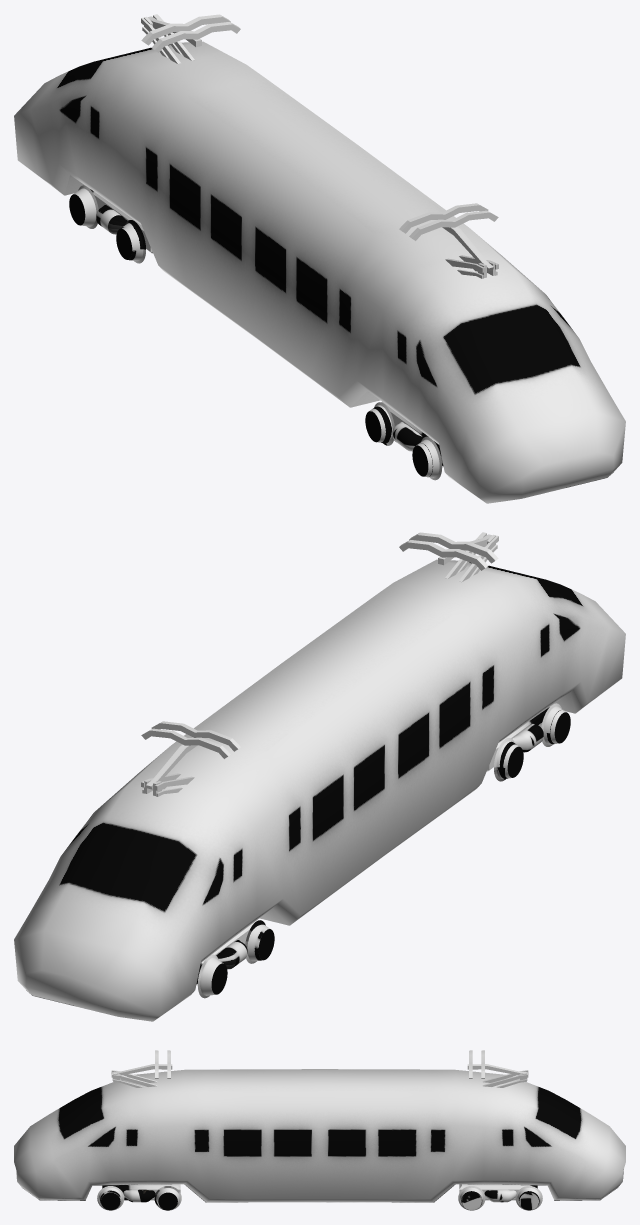
The model's file is trainModel.fbx.
3 renders of one model, top to bottom at view 1: azimuth 30°, elevation 25°; view 2: azimuth 150°, elevation 25°; view 3: azimuth 270°, elevation 25°, orthographic. The views are drawn at different scales.
Visible parts, largest first — view 1: model; view 2: model; view 3: model.
Part boxes in pixels (left/top/right/bottom): model: left=14, top=14, right=625, bottom=503; model: left=14, top=532, right=625, bottom=1021; model: left=14, top=1050, right=625, bottom=1210.
Bounding box in the file's own units: 204 × 293 × 1216.
